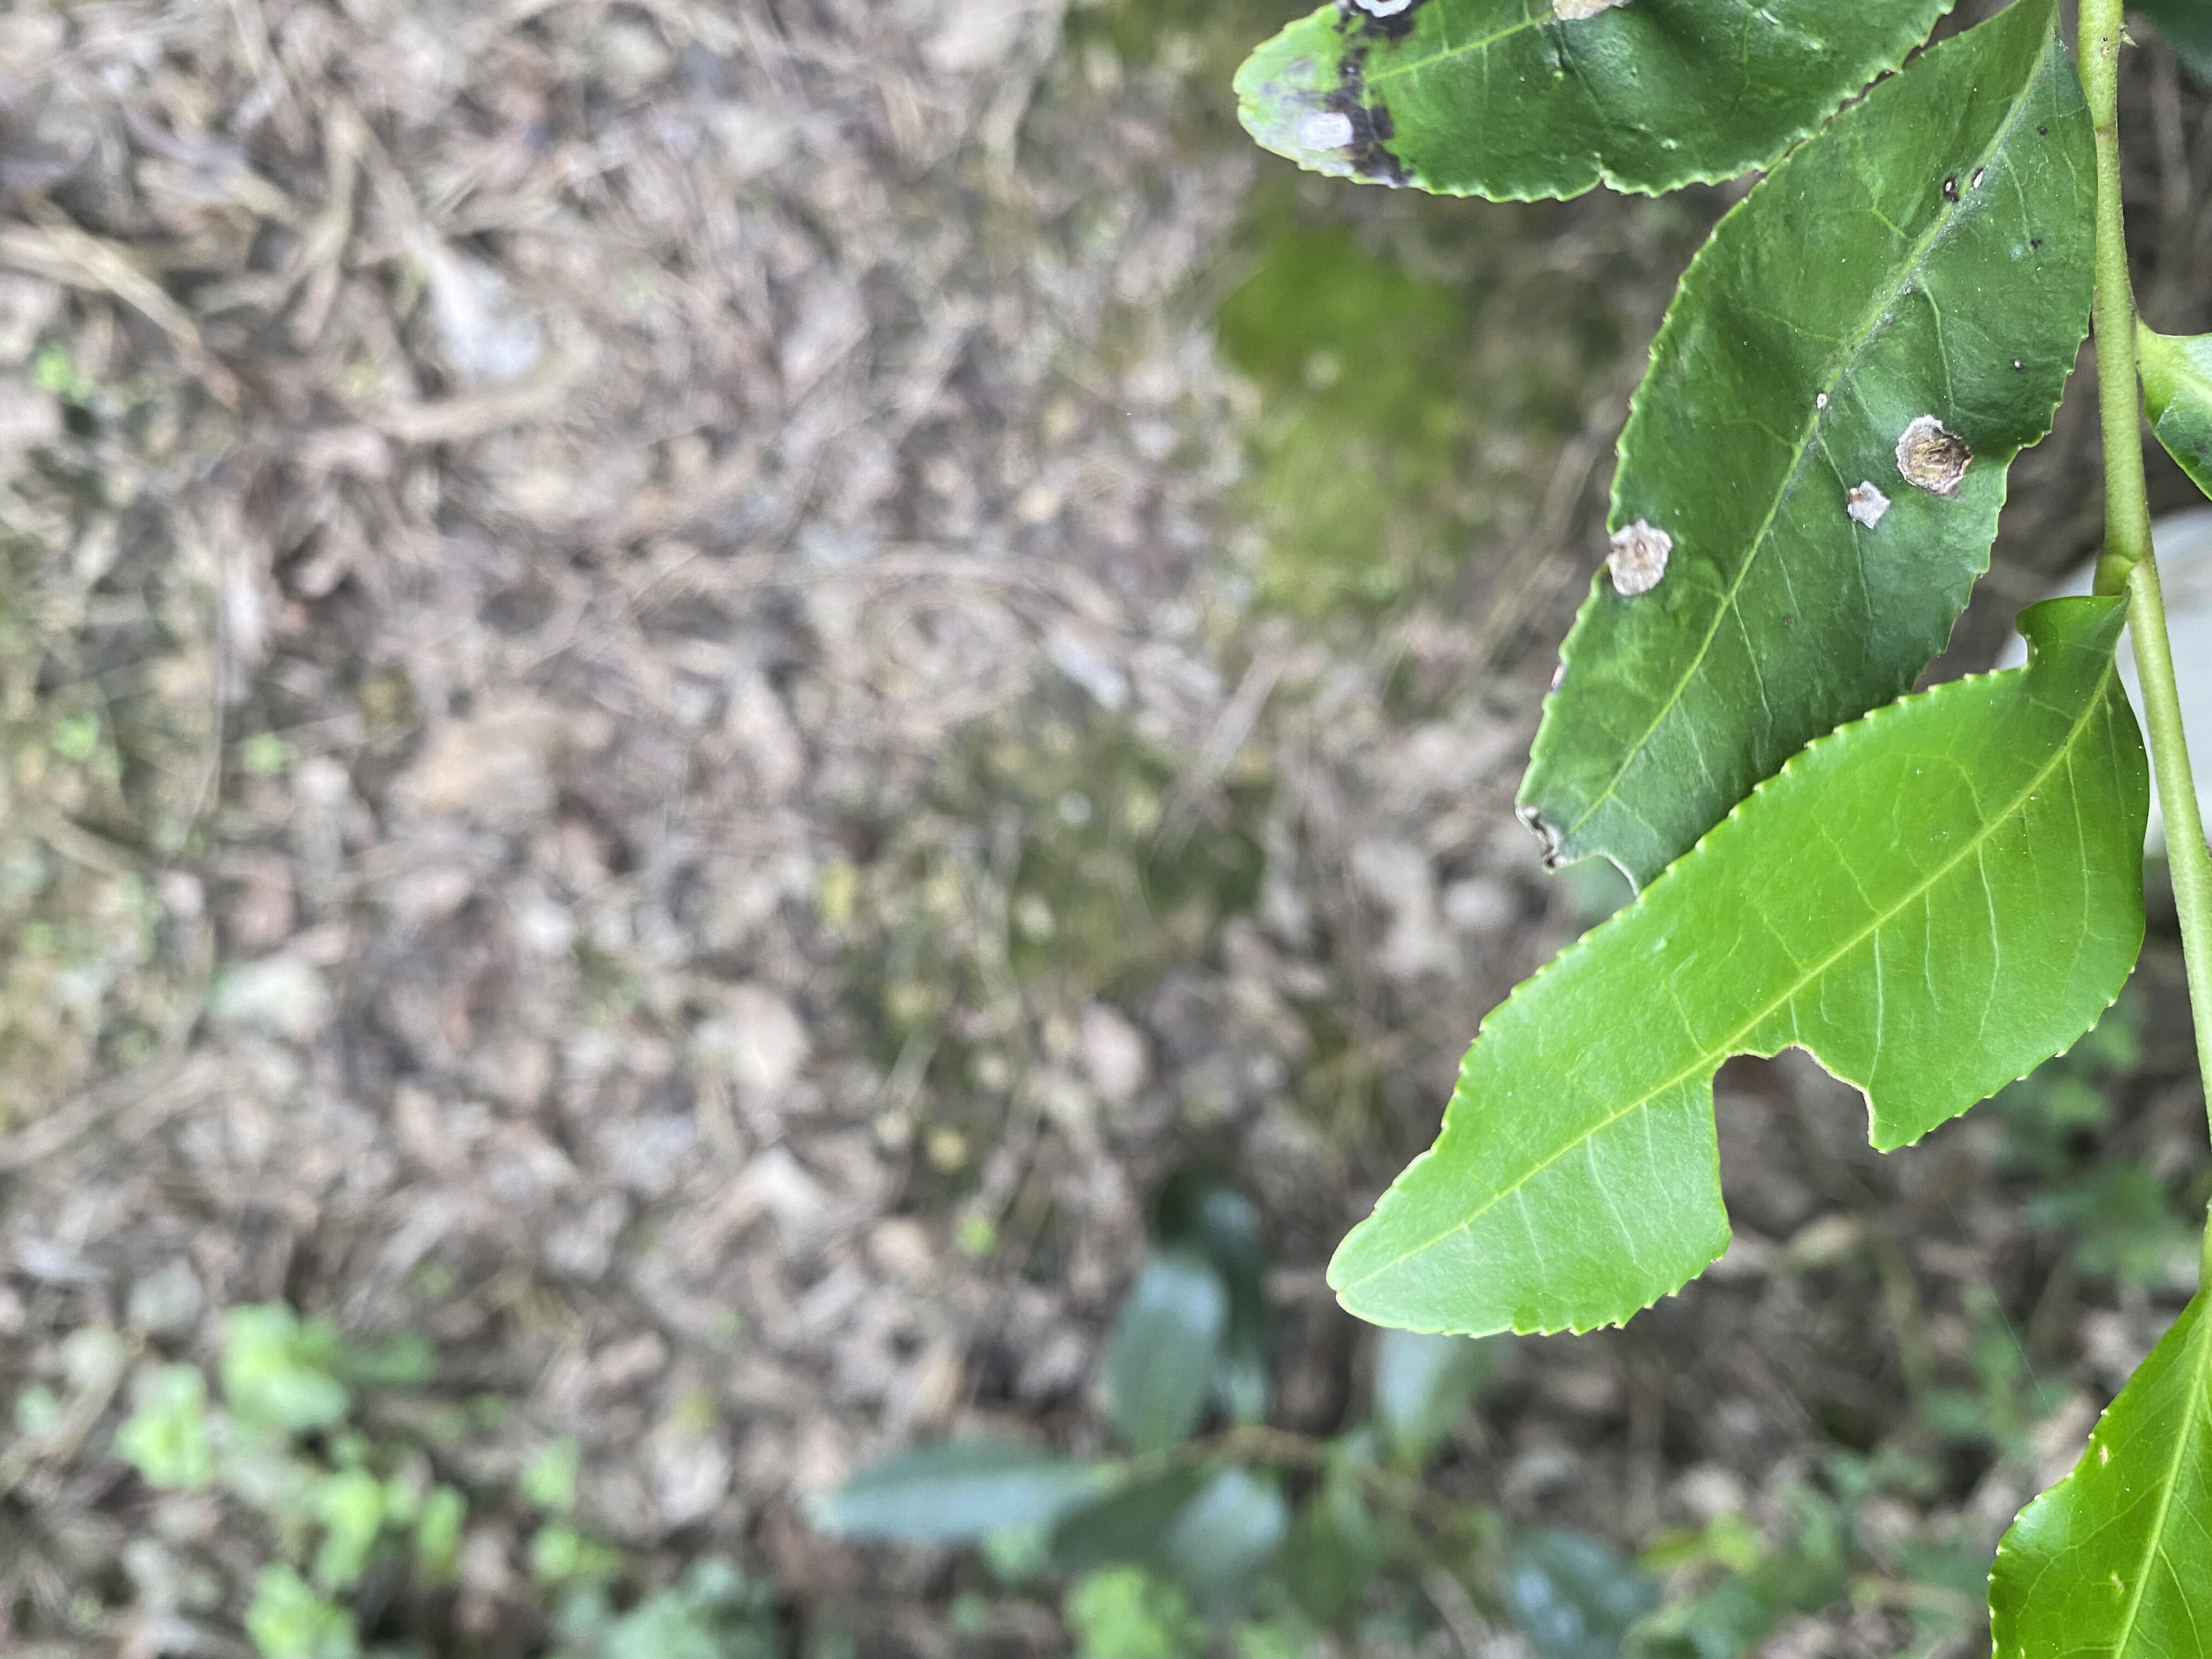chihuo_low: (1324, 606, 2153, 1342)
tanju_high: (1510, 3, 2097, 842), (1228, 3, 1954, 204)
